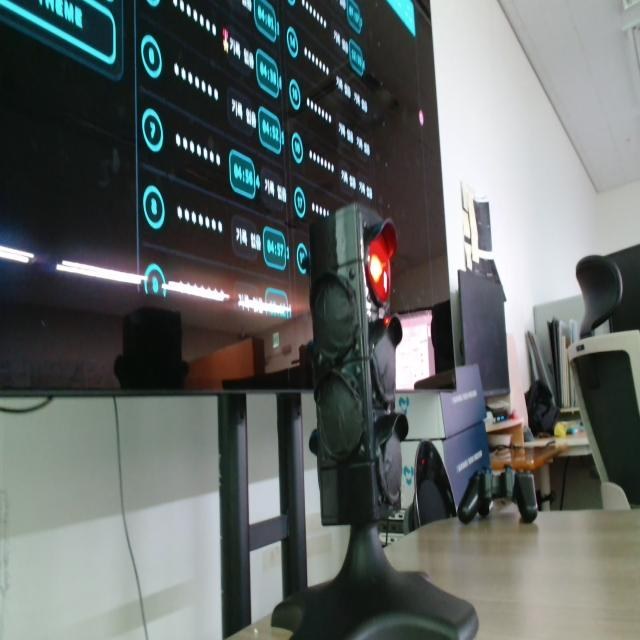red_light: (368, 221, 396, 304), (369, 234, 390, 303)
